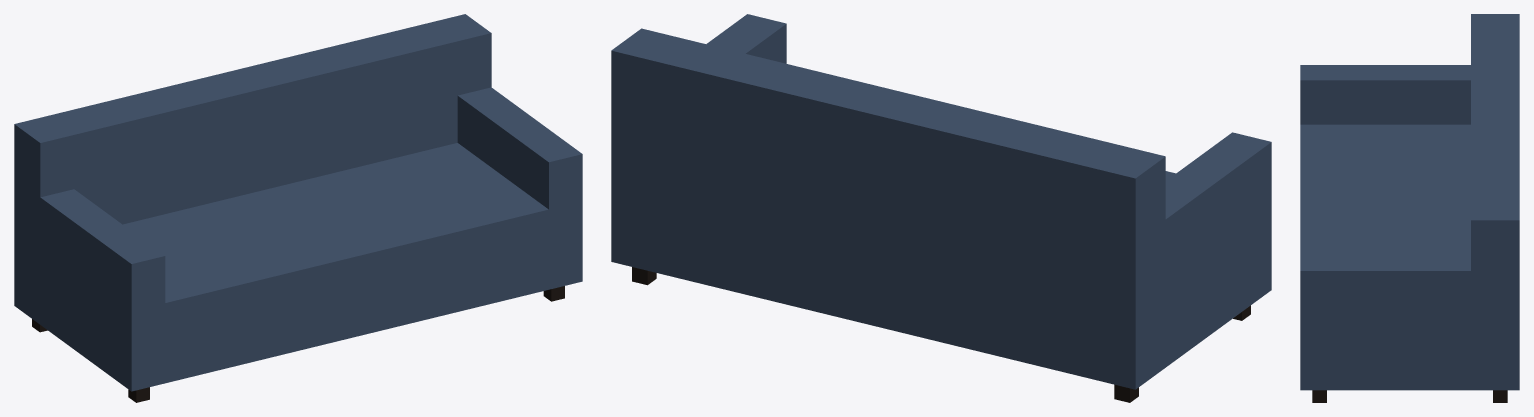
File: sofa.obj
3 views of the same model, side by side, from view 1: azimuth 30°, elevation 25°; view 2: azimuth 150°, elevation 25°; view 3: azimuth 270°, elevation 25° (orthographic). The views are drawn at different scales.
Parts seen in each view (by area): view 1: Seat, Back, Arm_L, Arm_R; view 2: Back, Arm_L, Seat, Arm_R; view 3: Seat, Arm_R, Back, Arm_L.
Boxes of the visible parts, x1,y1,x2,y2 form: Seat: (40, 143, 582, 391); Back: (14, 14, 491, 324); Arm_L: (40, 189, 165, 391); Arm_R: (457, 87, 582, 289); Back: (611, 28, 1165, 389); Arm_L: (1165, 132, 1271, 366); Seat: (1165, 171, 1271, 367); Arm_R: (706, 14, 786, 63); Seat: (1300, 124, 1470, 390); Arm_R: (1300, 255, 1470, 389); Back: (1471, 14, 1519, 390); Arm_L: (1300, 65, 1470, 124).
Bounding box in the file's own units: 2 × 0.85 × 0.9.
